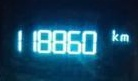0: (81, 29, 96, 54)
1: (15, 28, 22, 52), (31, 29, 36, 51)
6: (66, 29, 81, 53)
8: (36, 28, 51, 53), (51, 29, 66, 53)
X: (110, 28, 118, 41), (119, 32, 129, 41)
